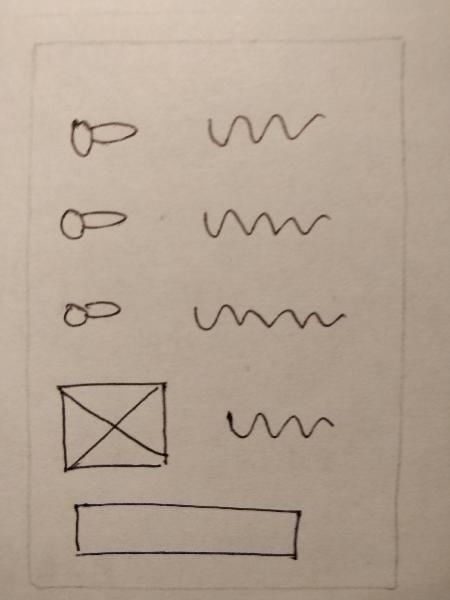image: (47, 374, 184, 486)
switch: (60, 108, 146, 168), (53, 197, 134, 248), (57, 286, 132, 335)
text: (191, 295, 355, 346), (188, 102, 333, 153), (191, 199, 337, 248), (218, 399, 345, 451)
text_input: (57, 496, 305, 568)
